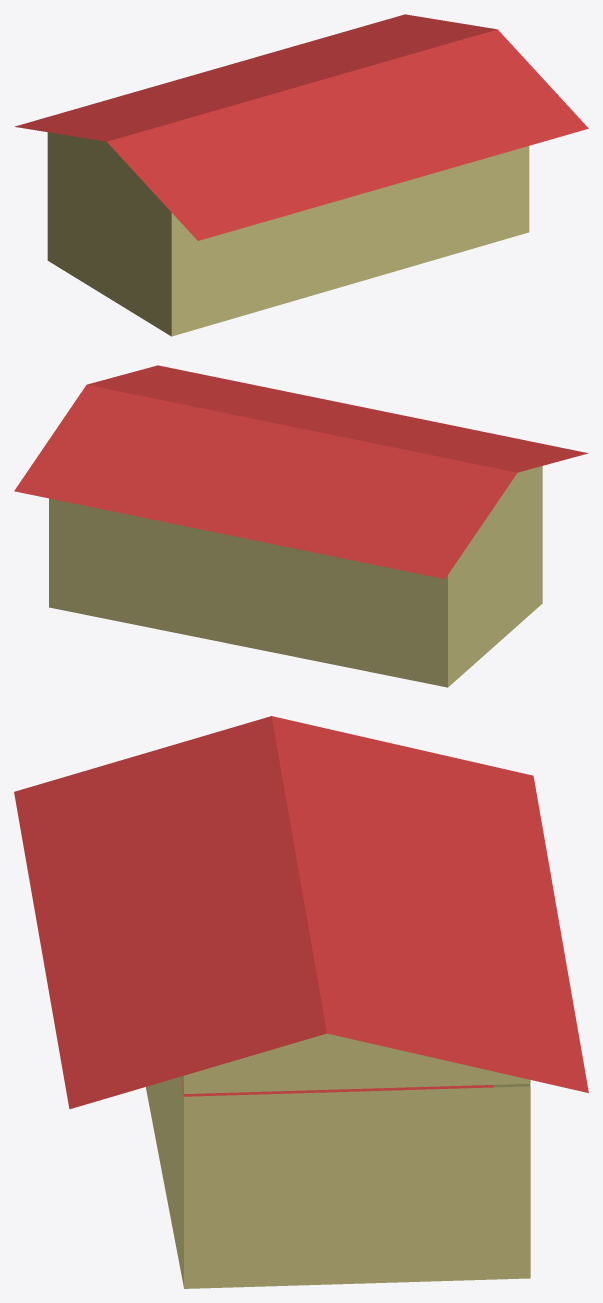
3 renders of one model, top to bottom at view 1: azimuth 30°, elevation 25°; view 2: azimuth 150°, elevation 25°; view 3: azimuth 270°, elevation 25°, orthographic. The views are drawn at different scales.
Size of the model in its own units: 27.5 by 20.03 by 10.21.
